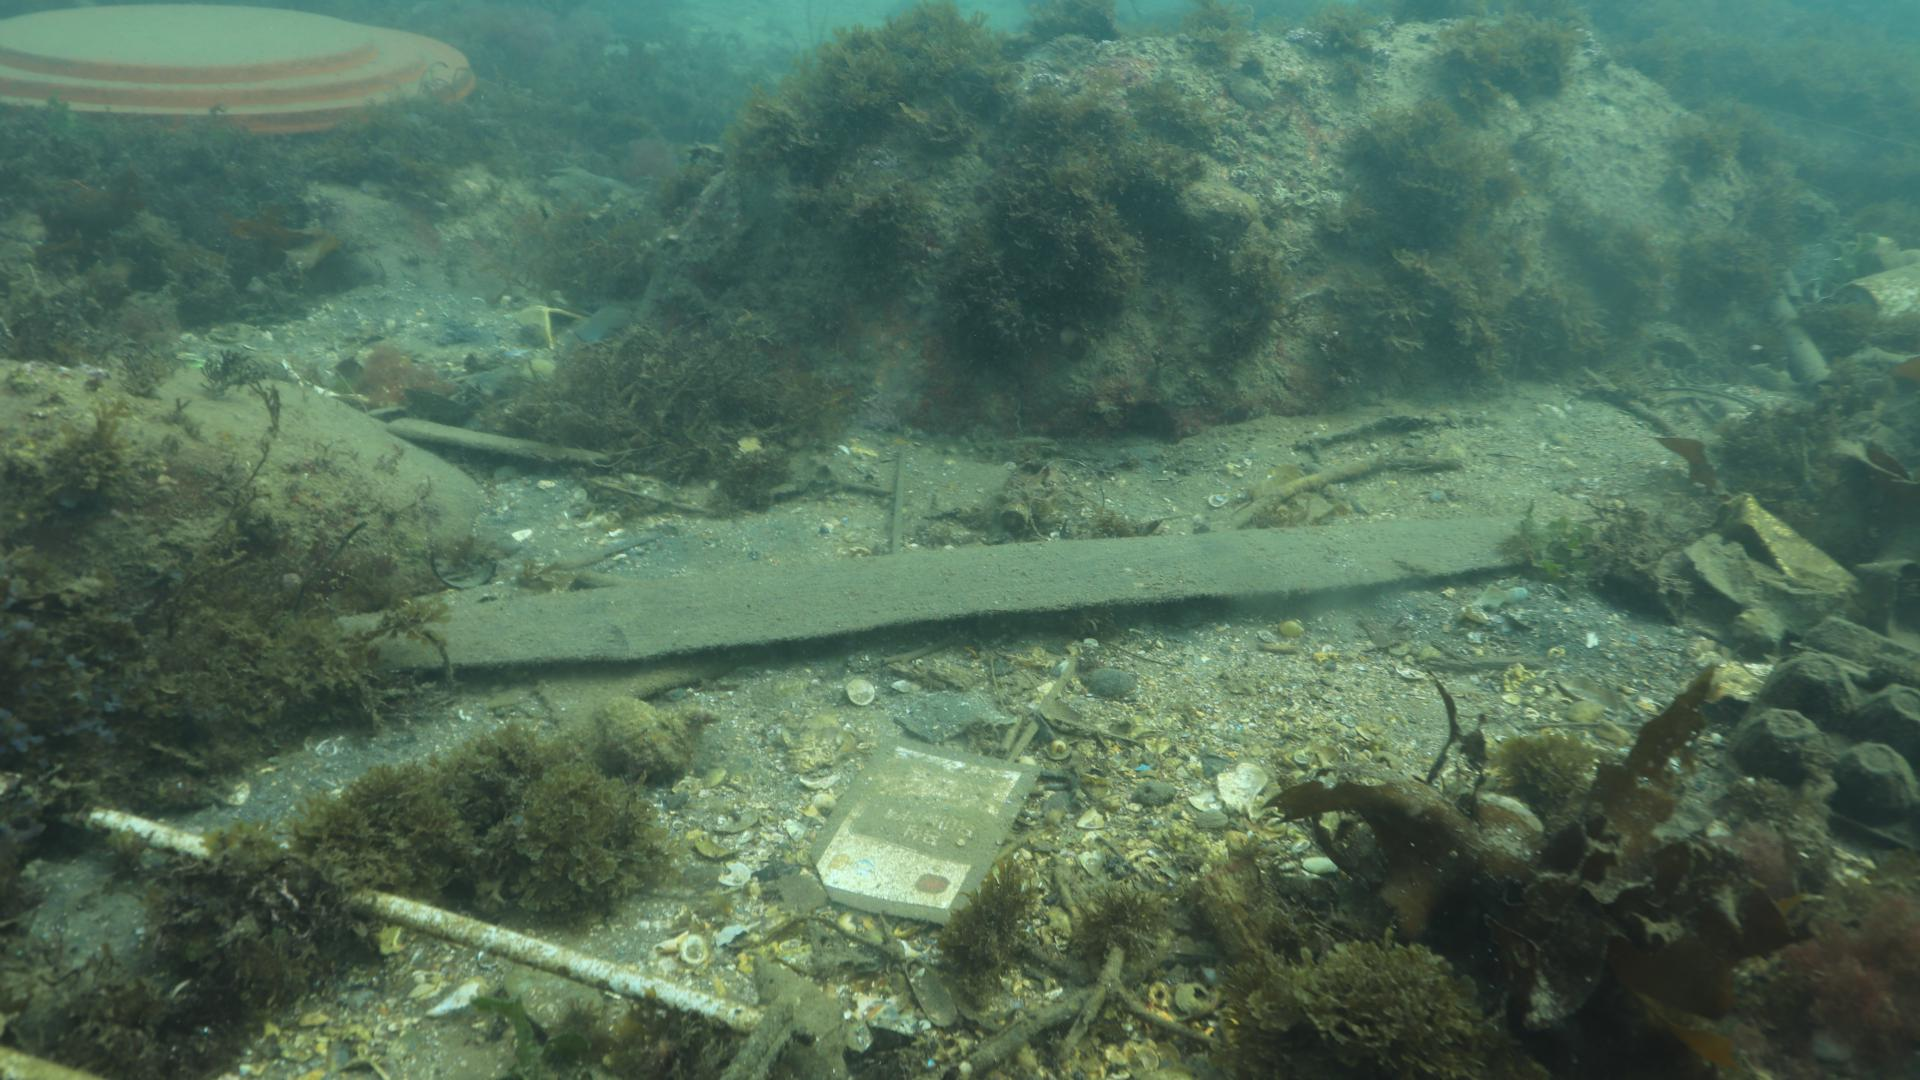wood: (334, 510, 1519, 678)
